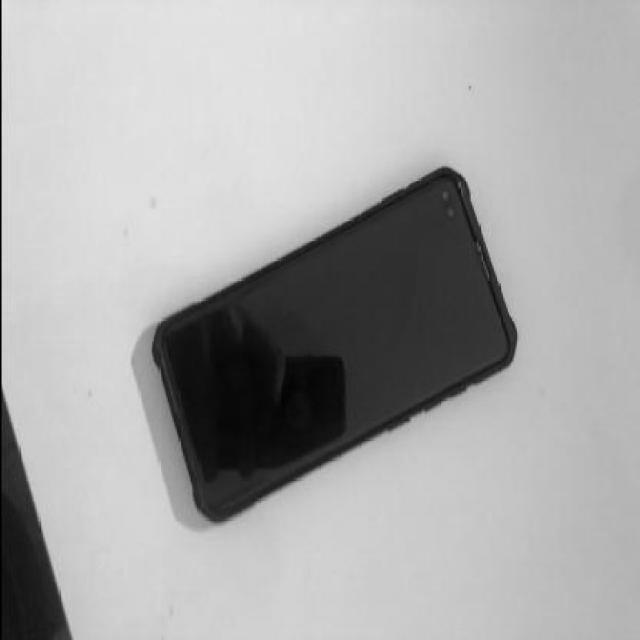fake: (148, 162, 518, 532)
